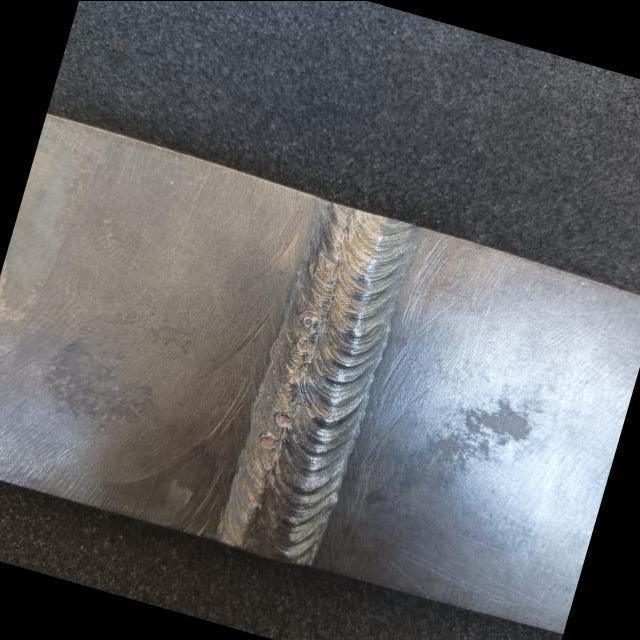defect: (291, 336, 317, 354), (296, 312, 321, 330), (258, 434, 280, 451), (272, 411, 293, 428), (284, 380, 295, 389)
